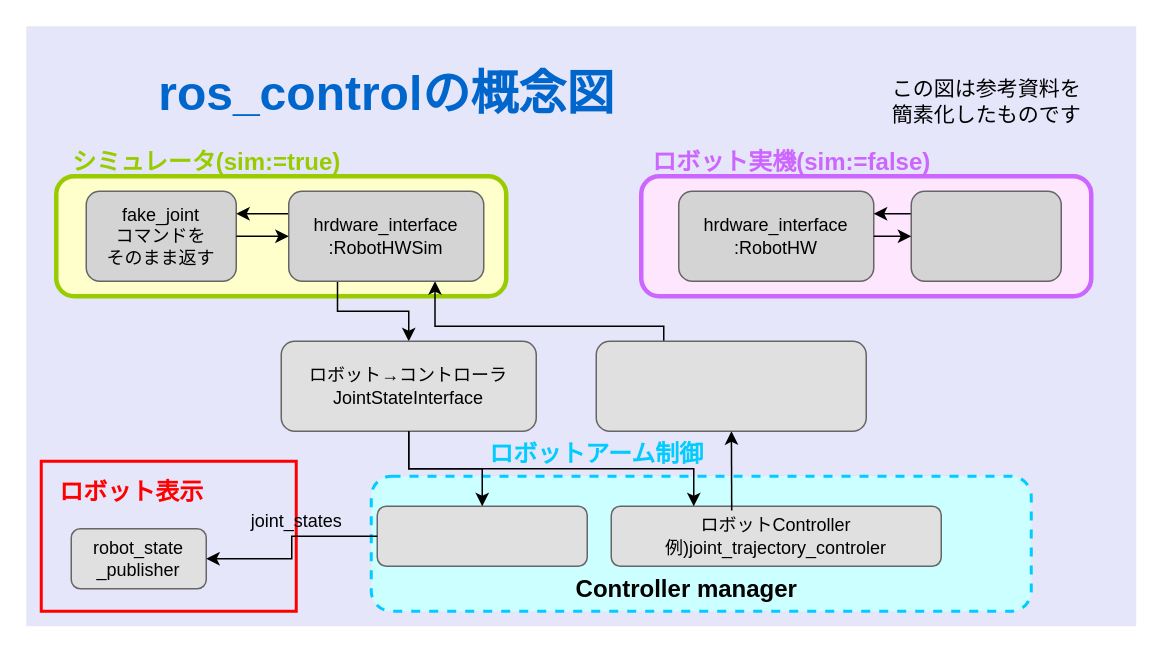
Some shapes in this 1161 by 651 pixel diagram are drawn without their labels. The shapes that lost their labels are listed below. From the top down, each one's centre as x and y in pixels, then its label:
At pixel 985 235: "ロボ実機".
At pixel 730 385: "コントローラ→ロボット JointCommandInterface".
At pixel 481 535: "joint_state_ controller".
